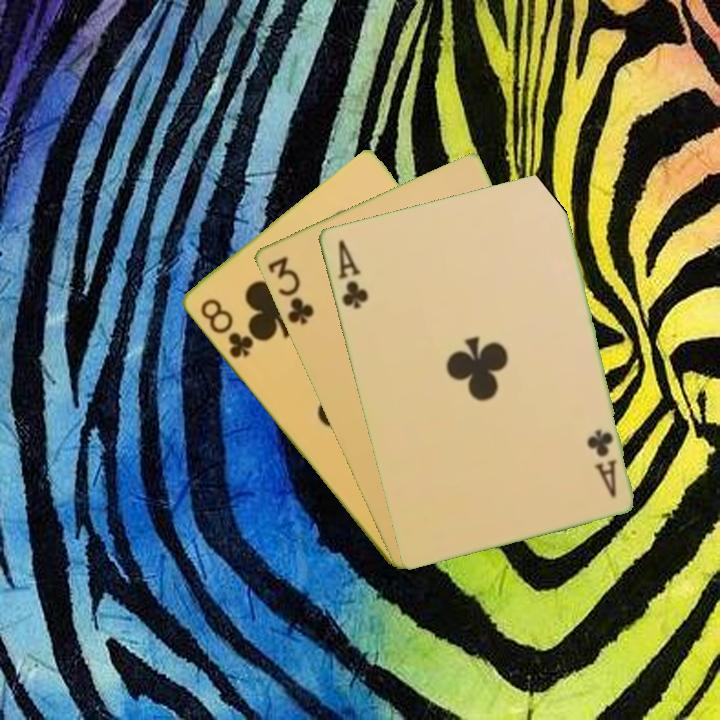3c: (263, 252, 317, 328)
8c: (195, 294, 256, 361)
Ac: (333, 236, 371, 312), (584, 425, 619, 501)
